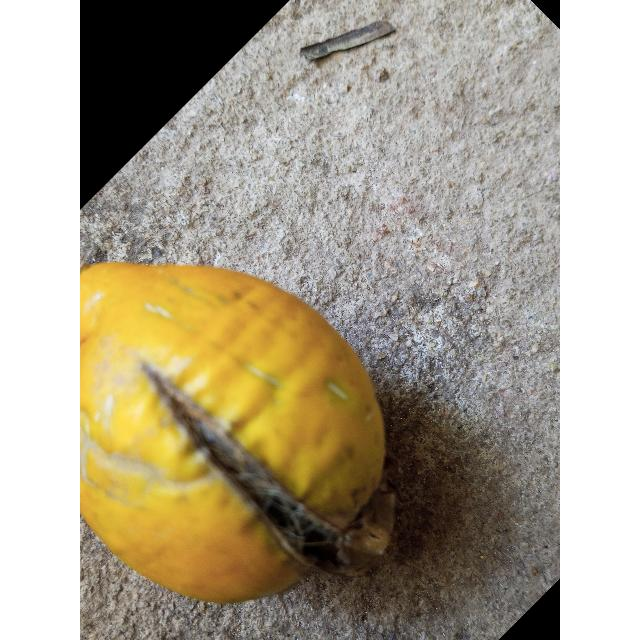damaged: (80, 262, 395, 608)
